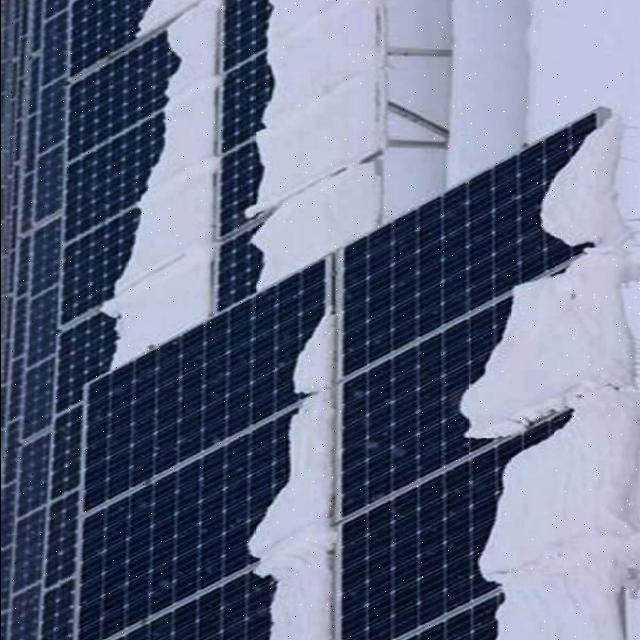Anomaly Solar Panel: (74, 110, 611, 640), (55, 0, 370, 407)
Snow: (456, 119, 612, 640), (97, 0, 217, 375), (240, 0, 371, 217), (224, 156, 400, 289), (243, 387, 331, 640), (288, 303, 332, 392)
